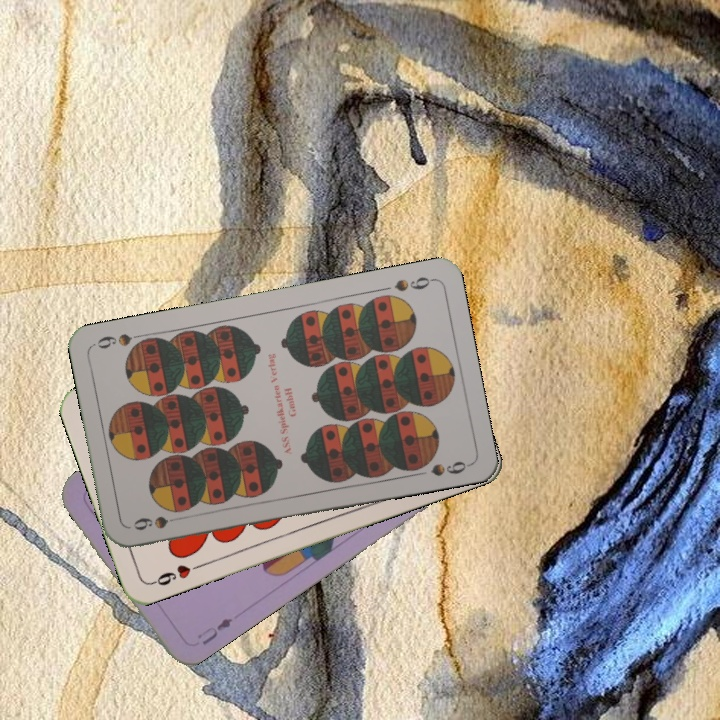EU: (196, 613, 235, 648)
H9: (147, 560, 204, 588)
S9: (129, 512, 187, 533), (390, 273, 436, 294)
